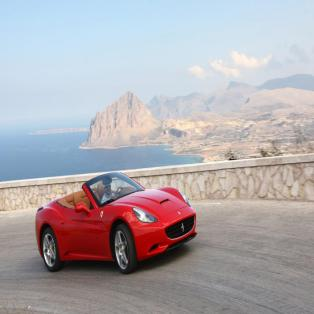Auto: (35, 172, 197, 276)
